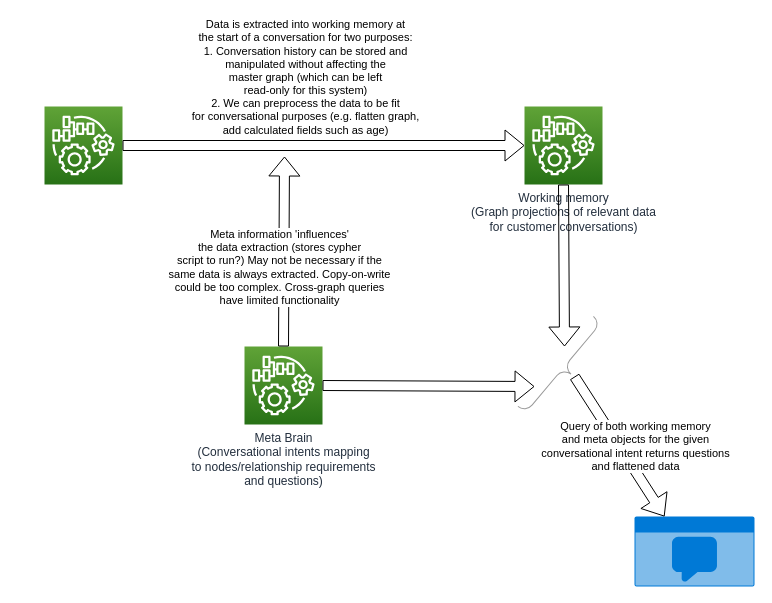
The diagram is 772 pixels wide and 603 high, and some of its shapes have lost their labels. The shapes that lost their labels are listed below. From the top down, each one's centre as x and y in pixels, then its label:
point (83, 145): NatWest Brain (Master graph containing all corporate records)
point (694, 551): Aroc
